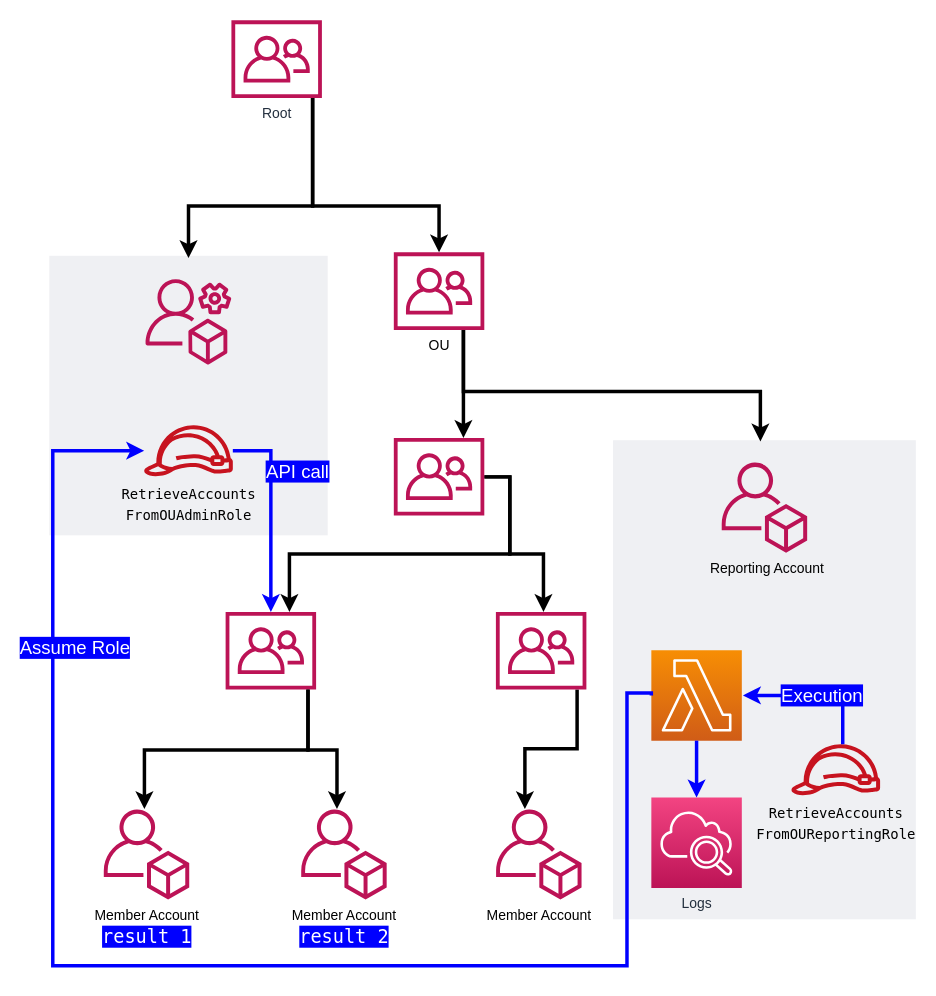
Image size: 936x996. Some labels were removed from this diagram. The box of each missing label's shape, as (x1, y1, x2, y2) in pixels:
Intermediary OU: (393, 437, 484, 515)
Org Managment Account: (145, 276, 231, 367)
Parent OU: (225, 611, 316, 689)
Sibling OU: (495, 611, 586, 689)
